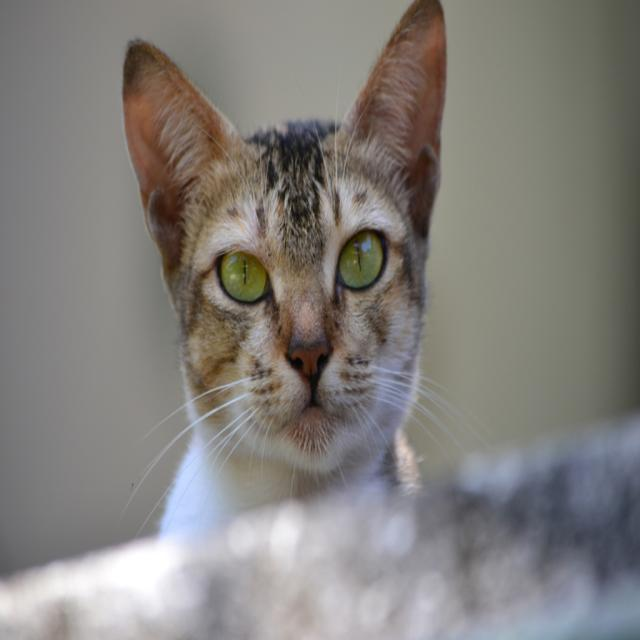Cat: (111, 0, 480, 530)
